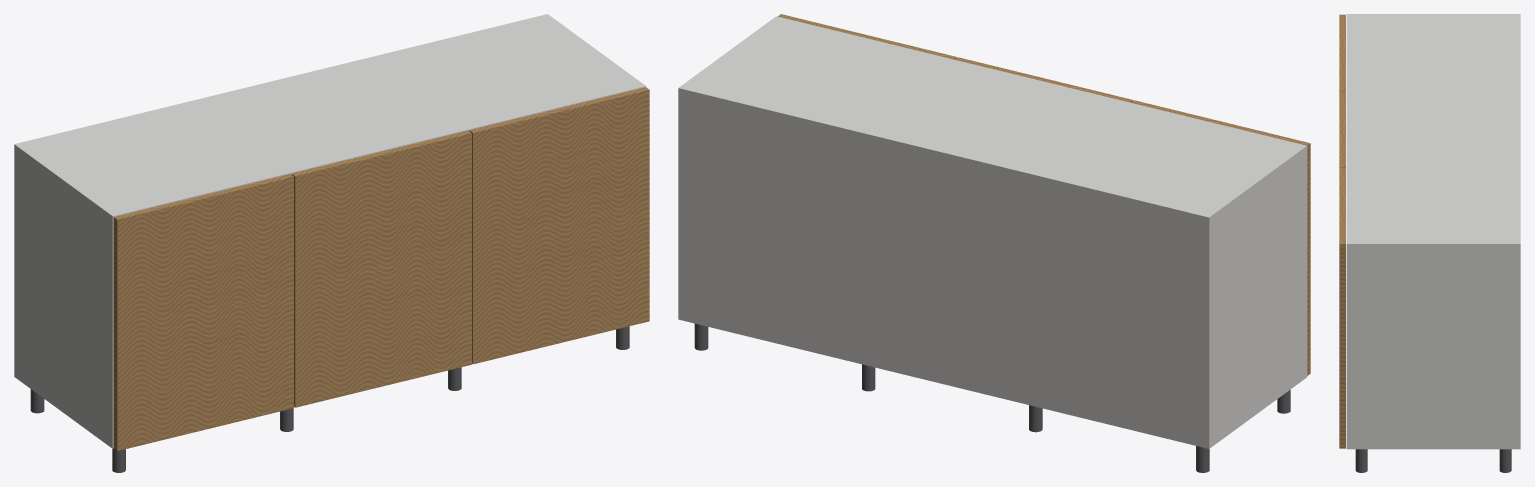
Rendered from w1800_onset_default_closed.glb.
The picture shows the model from 3 angles, left to right: view 1: azimuth 30°, elevation 25°; view 2: azimuth 150°, elevation 25°; view 3: azimuth 270°, elevation 25°; orthographic projection. The views are drawn at different scales.
Parts seen in each view (by area): view 1: oak, white, leg; view 2: white, oak, leg; view 3: white, oak, leg.
Part boxes in pixels (box(x1,y1,x2,y2)): oak: box(113, 87, 649, 450); white: box(14, 14, 646, 448); leg: box(30, 326, 629, 472); white: box(678, 16, 1307, 448); oak: box(778, 14, 1310, 375); leg: box(694, 323, 1290, 472); white: box(1346, 14, 1520, 449); oak: box(1339, 14, 1345, 448); leg: box(1355, 449, 1511, 472).
Bounding box in the file's own units: 1.8 × 0.85 × 0.6.
Materials: 3 (1 with a texture image).
